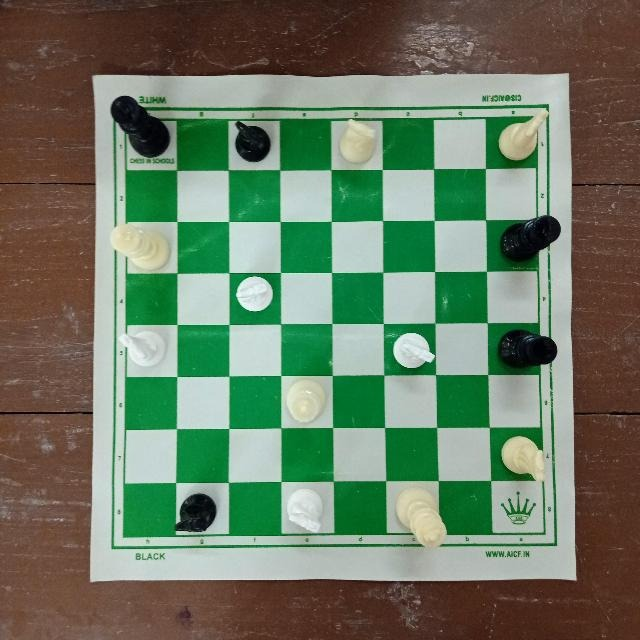black-king: (108, 94, 172, 160), (500, 210, 562, 266), (493, 325, 561, 374)
black-knight: (171, 488, 221, 538), (230, 117, 274, 165)
white-king: (392, 484, 452, 550), (108, 220, 173, 274)
white-knight: (492, 109, 554, 161), (281, 486, 330, 538), (499, 434, 548, 481), (119, 328, 169, 374), (388, 327, 440, 371), (334, 121, 381, 169), (232, 271, 279, 319)
white-queen: (279, 375, 327, 427)
